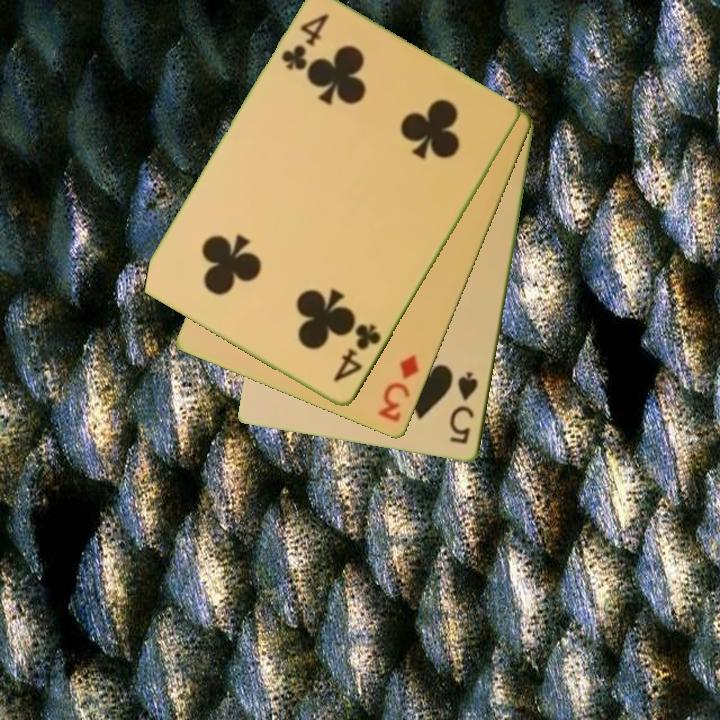3d: (374, 351, 422, 425)
4c: (330, 320, 384, 386), (278, 10, 333, 74)
5s: (446, 368, 482, 448)
